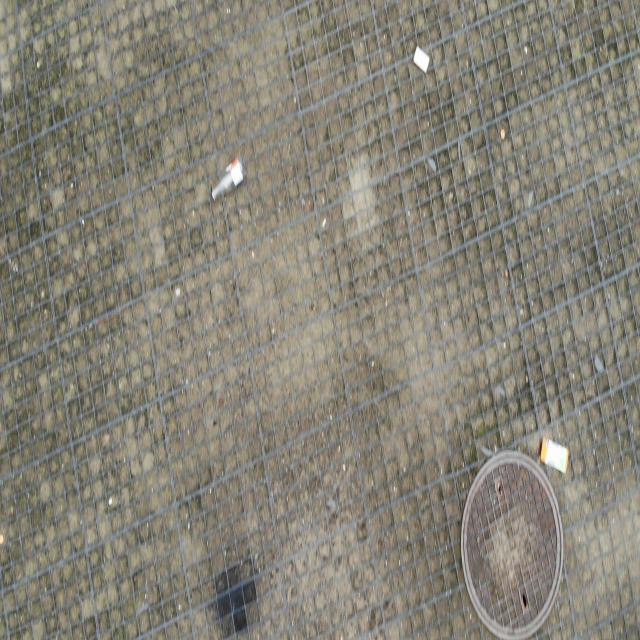rubbish: (211, 156, 247, 199), (539, 435, 569, 475), (412, 45, 430, 72)
